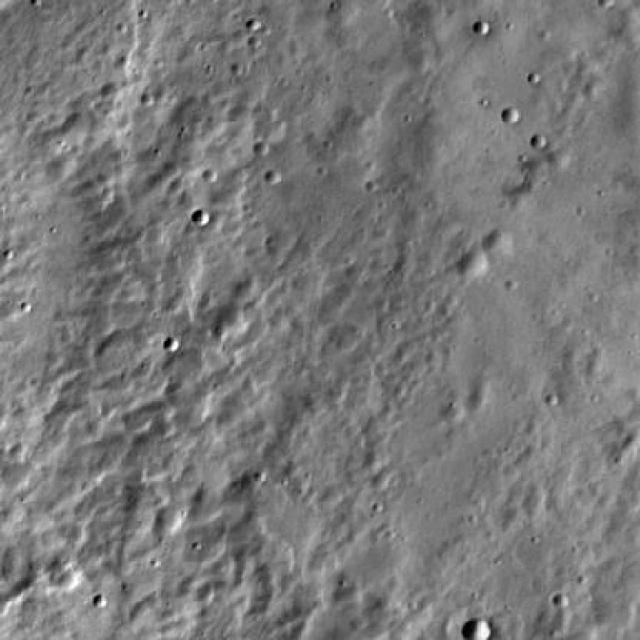crater: (461, 255, 496, 287), (50, 568, 85, 598), (214, 316, 248, 346), (154, 516, 188, 544), (268, 241, 300, 270), (491, 236, 520, 262), (180, 474, 209, 500), (525, 497, 553, 521), (236, 286, 259, 308), (553, 157, 575, 177), (469, 624, 496, 640), (502, 109, 521, 125), (187, 209, 204, 225), (528, 133, 544, 149)
